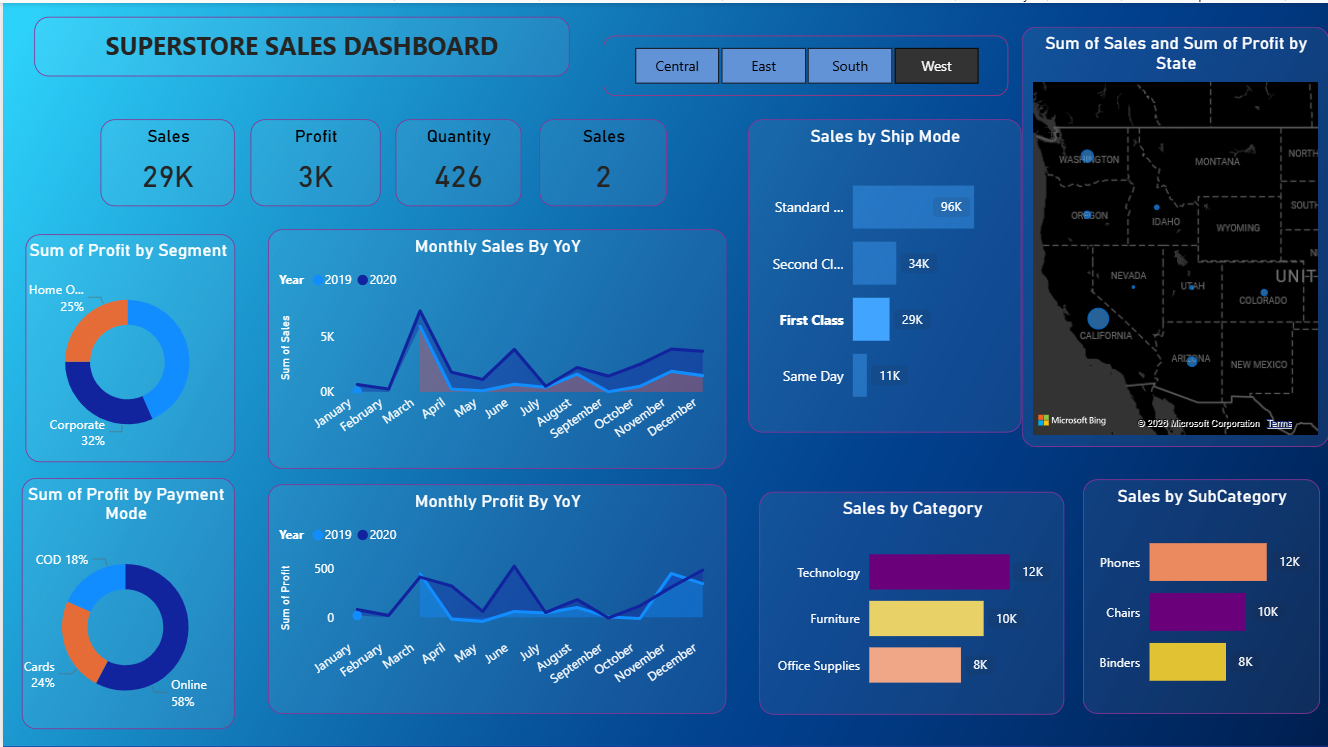

What the dashboard file says about the page in this screenshot:
{"tool":"powerbi","page":{"name":"Page 1","canvas":[1280,720],"ordinal":0},"visuals":[{"type":"clusteredBarChart","title":" Sales by Category","fields":{"Category":["Sheet1.Category"],"Y":["Sum(Sheet1.Sales)"]},"box":[729.8,471.3,294.7,214.9],"z":0},{"type":"clusteredBarChart","title":"Sales by SubCategory","fields":{"Category":["Sheet1.Sub-Category"],"Y":["Sum(Sheet1.Sales)"]},"box":[1042.6,459.6,228.7,226.6],"z":1000},{"type":"clusteredBarChart","title":"Sales by Ship Mode","fields":{"Category":["Sheet1.Ship Mode"],"Y":["Sum(Sheet1.Sales)"]},"box":[719.1,112.8,263.8,302.1],"z":2000},{"type":"stackedAreaChart","title":" Monthly Profit By YoY","fields":{"Category":["Sheet1.Order Date.Variation.Date Hierarchy.Month"],"Series":["Sheet1.Order Date.Variation.Date Hierarchy.Year"],"Y":["Sum(Sheet1.Profit)"]},"box":[255.3,464.9,442.6,221.3],"z":3000},{"type":"stackedAreaChart","title":" Monthly Sales By YoY","fields":{"Y":["Sum(Sheet1.Sales)"],"Category":["Sheet1.Order Date.Variation.Date Hierarchy.Month"],"Series":["Sheet1.Order Date.Variation.Date Hierarchy.Year"]},"box":[255.3,218.1,442.6,230.9],"z":4000},{"type":"map","fields":{"Category":["Sheet1.State"],"Size":["Sum(Sheet1.Sales)"]},"box":[983,22.3,296.8,405.3],"z":5000},{"type":"donutChart","fields":{"Category":["Sheet1.Segment"],"Y":["Sum(Sheet1.Profit)"]},"box":[21.3,223.4,202.1,220.2],"z":6000},{"type":"donutChart","fields":{"Category":["Sheet1.Payment Mode"],"Y":["Sum(Sheet1.Profit)"]},"box":[18.1,458.5,205.3,242.6],"z":7000},{"type":"slicer","fields":{"Values":["Sheet1.Region"]},"box":[578.7,31.9,391.5,58.5],"z":8000},{"type":"textbox","box":[29.8,12.8,517,57.4],"z":9000},{"type":"card","title":"Sales","fields":{"Values":["Sum(Sheet1.Sales)"]},"box":[93.6,112.8,129.8,84],"z":10000},{"type":"card","title":"Profit","fields":{"Values":["Sum(Sheet1.Profit)"]},"box":[239.4,112.8,125.5,84],"z":11000},{"type":"card","title":"Quantity","fields":{"Values":["Sum(Sheet1.Quantity)"]},"box":[378.7,112.8,121.3,84],"z":12000},{"type":"card","title":"Sales","fields":{"Values":["Avg(Sheet1.AvgDelivery)"]},"box":[517,112.8,123.4,84],"z":12001}]}

Visuals, with their boxes in screenshot pixels (x1, y1, x2, y2), scaled from the page's 1280x720 canvas onto the 1328x747 screenshot:
" Sales by Category" clusteredBarChart: bbox(757, 489, 1063, 712)
"Sales by SubCategory" clusteredBarChart: bbox(1082, 477, 1319, 712)
"Sales by Ship Mode" clusteredBarChart: bbox(746, 117, 1020, 430)
" Monthly Profit By YoY" stackedAreaChart: bbox(265, 482, 724, 712)
" Monthly Sales By YoY" stackedAreaChart: bbox(265, 226, 724, 466)
map - Sheet1.State x Sum(Sheet1.Sales): bbox(1020, 23, 1327, 444)
donutChart - Sheet1.Segment x Sum(Sheet1.Profit): bbox(22, 232, 232, 460)
donutChart - Sheet1.Payment Mode x Sum(Sheet1.Profit): bbox(19, 476, 232, 727)
slicer - Sheet1.Region: bbox(600, 33, 1007, 94)
textbox: bbox(31, 13, 567, 73)
"Sales" card: bbox(97, 117, 232, 204)
"Profit" card: bbox(248, 117, 379, 204)
"Quantity" card: bbox(393, 117, 519, 204)
"Sales" card: bbox(536, 117, 664, 204)
